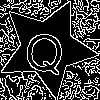Q: (22, 22, 68, 76)
